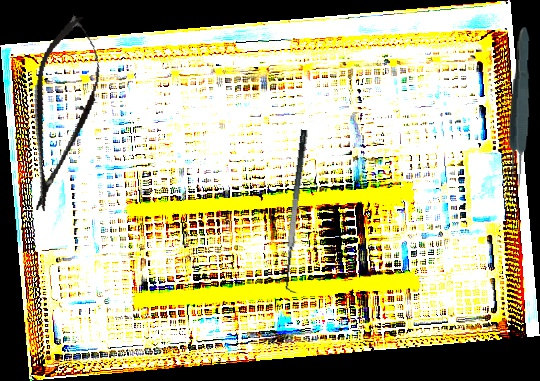Micro Scissor: (10, 10, 112, 218)
Spatula Surgical: (277, 129, 322, 294)
Tissue Forceps: (504, 26, 535, 189)
